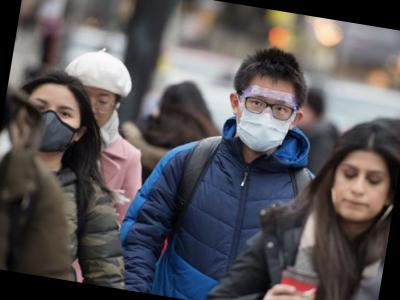with_mask: (232, 82, 301, 159), (19, 93, 83, 161)
without_mask: (326, 157, 395, 229), (80, 86, 119, 135)
